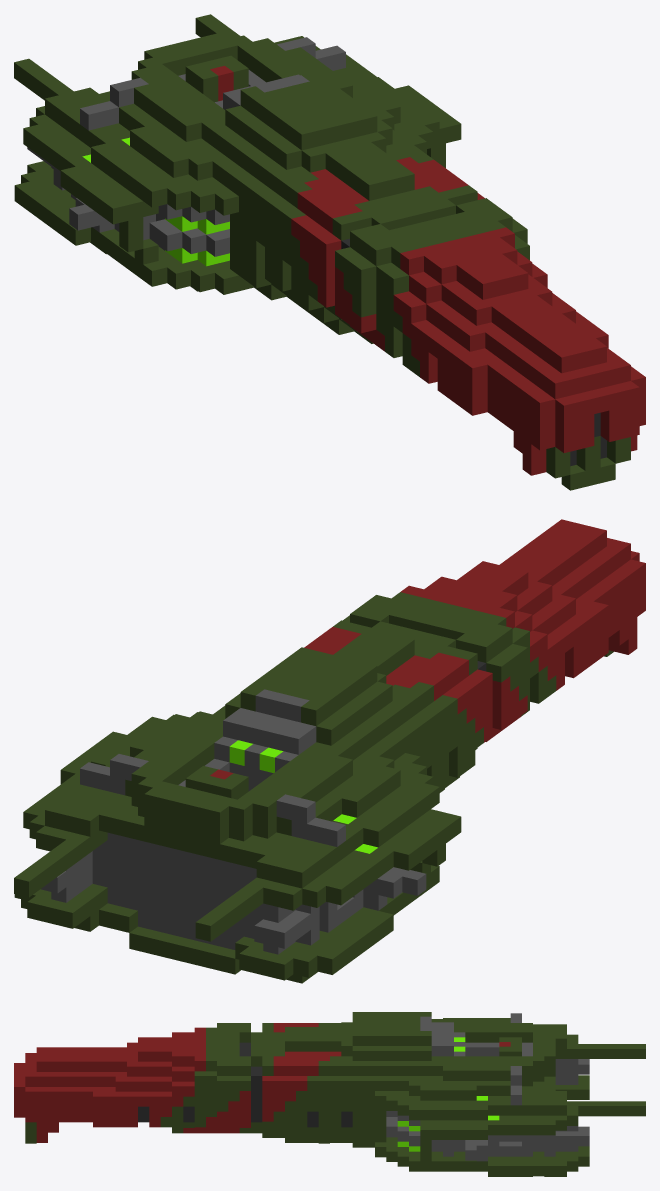
File: Body-10-GalactixRacer_Body.obj
The picture shows the model from 3 angles, top to bottom: view 1: azimuth 30°, elevation 25°; view 2: azimuth 150°, elevation 25°; view 3: azimuth 270°, elevation 25°; orthographic projection. The views are drawn at different scales.
Visible parts, largest first — view 1: GalactixRacer_Body; view 2: GalactixRacer_Body; view 3: GalactixRacer_Body.
Boxes of the visible parts, bbox=[...] form: GalactixRacer_Body: bbox=[14, 14, 645, 490]; GalactixRacer_Body: bbox=[14, 519, 645, 983]; GalactixRacer_Body: bbox=[14, 1012, 645, 1176].
Bounding box in the file's own units: 2.3 × 1.2 × 5.6.
1 material, 1 textured.
